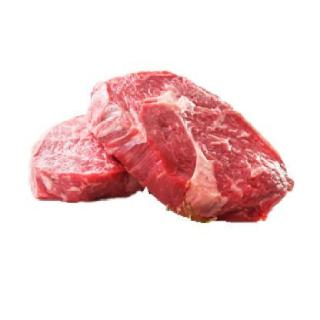Daging Sapi: (93, 72, 291, 223), (31, 119, 153, 203)
